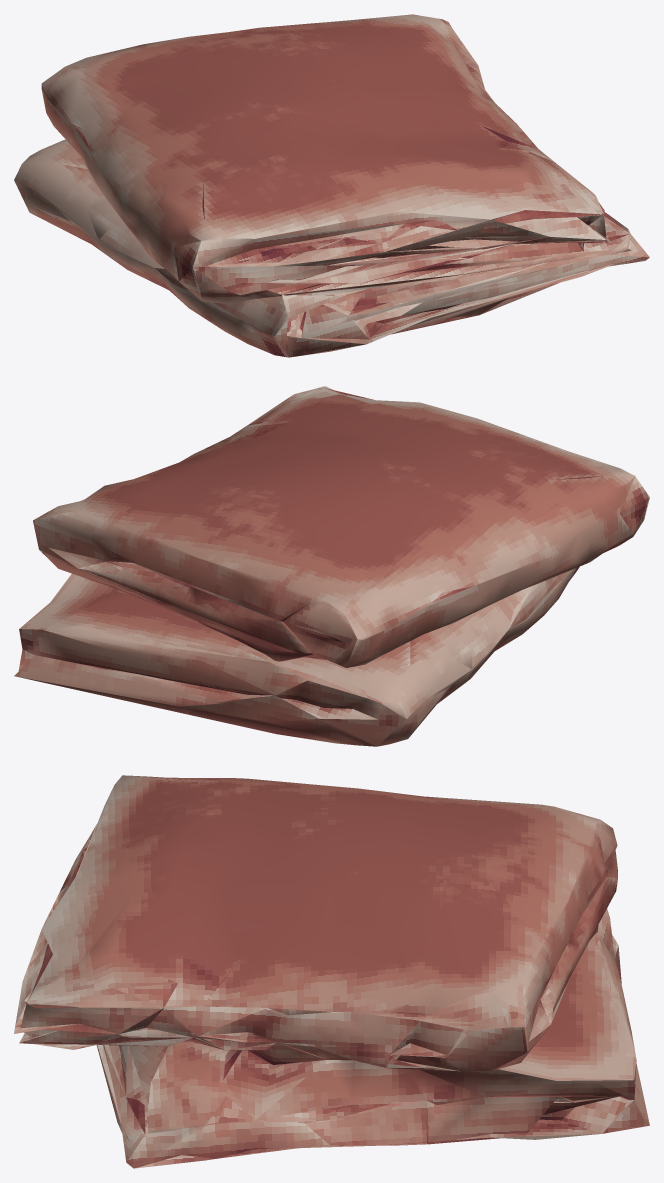
File: wear_towel.glb
The picture shows the model from 3 angles, top to bottom: view 1: azimuth 30°, elevation 25°; view 2: azimuth 150°, elevation 25°; view 3: azimuth 270°, elevation 25°; orthographic projection. The views are drawn at different scales.
Parts seen in each view (by area): view 1: mesh; view 2: mesh; view 3: mesh.
Boxes of the visible parts, x1,y1,x2,y2 form: mesh: (14,14,649,357); mesh: (14,386,649,746); mesh: (14,775,649,1168).
Size of the model in its own units: 0.2782 by 0.1 by 0.2974.
1 material, 1 textured.
